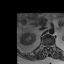CCS_normal: (47, 42, 49, 50)
LFS_normal: (51, 42, 53, 49)
LLS_normal: (49, 42, 51, 49)
RFS_normal: (43, 42, 45, 49)
RLS_normal: (45, 42, 47, 49)
